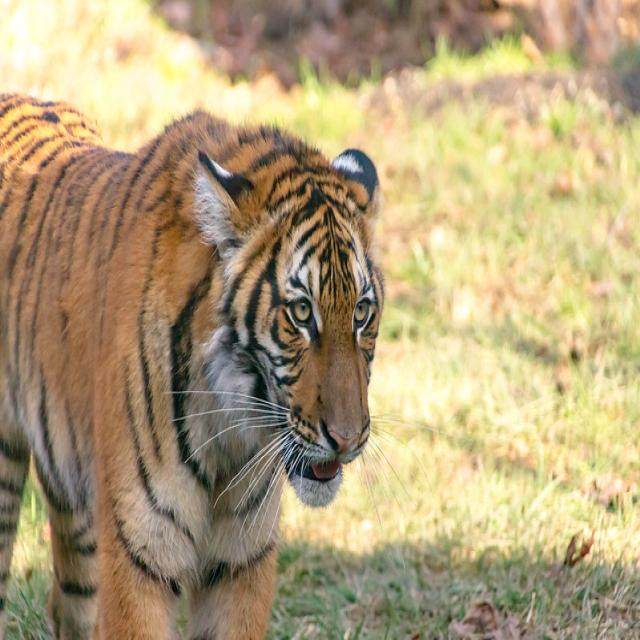Tiger: (0, 83, 397, 637)
